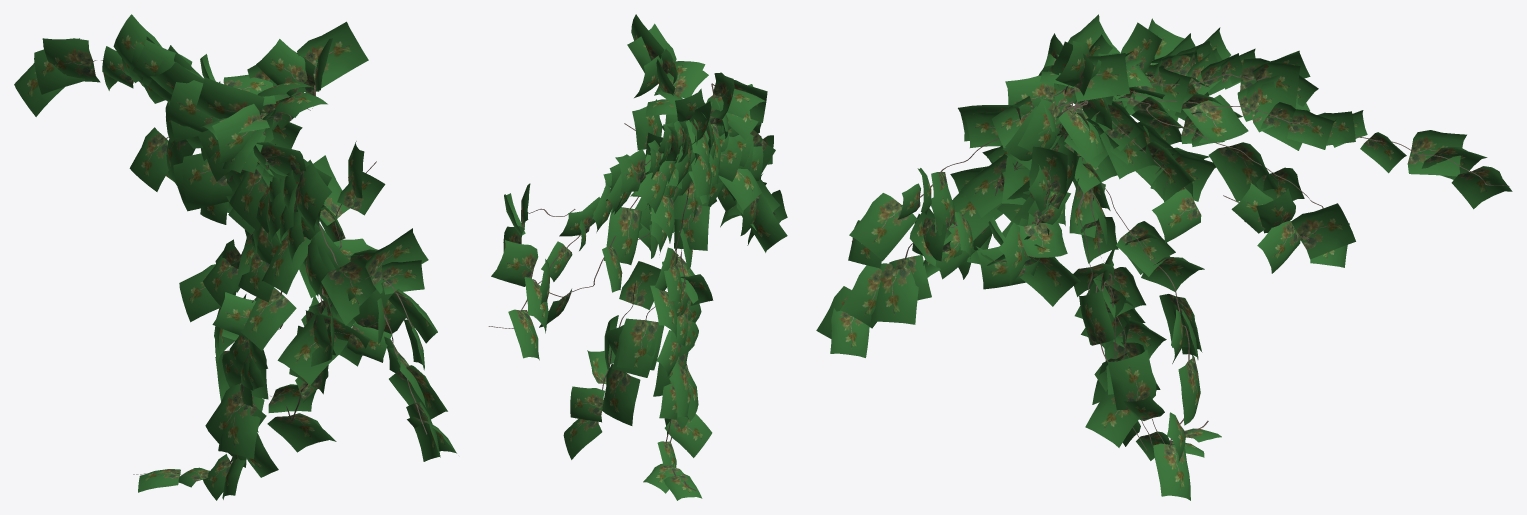
Rendered from SM_Climber_12a.fbx.
3 renders of one model, left to right at view 1: azimuth 30°, elevation 25°; view 2: azimuth 150°, elevation 25°; view 3: azimuth 270°, elevation 25°, orthographic. The views are drawn at different scales.
Visible parts, largest first — view 1: SM_Climber_12a_LOD0; view 2: SM_Climber_12a_LOD0; view 3: SM_Climber_12a_LOD0.
Boxes of the visible parts, x1=… form: SM_Climber_12a_LOD0: x1=14, y1=14, x2=456, y2=500; SM_Climber_12a_LOD0: x1=488, y1=14, x2=787, y2=500; SM_Climber_12a_LOD0: x1=816, y1=14, x2=1512, y2=500.
Bounding box in the file's own units: 580 × 1864 × 1364.
